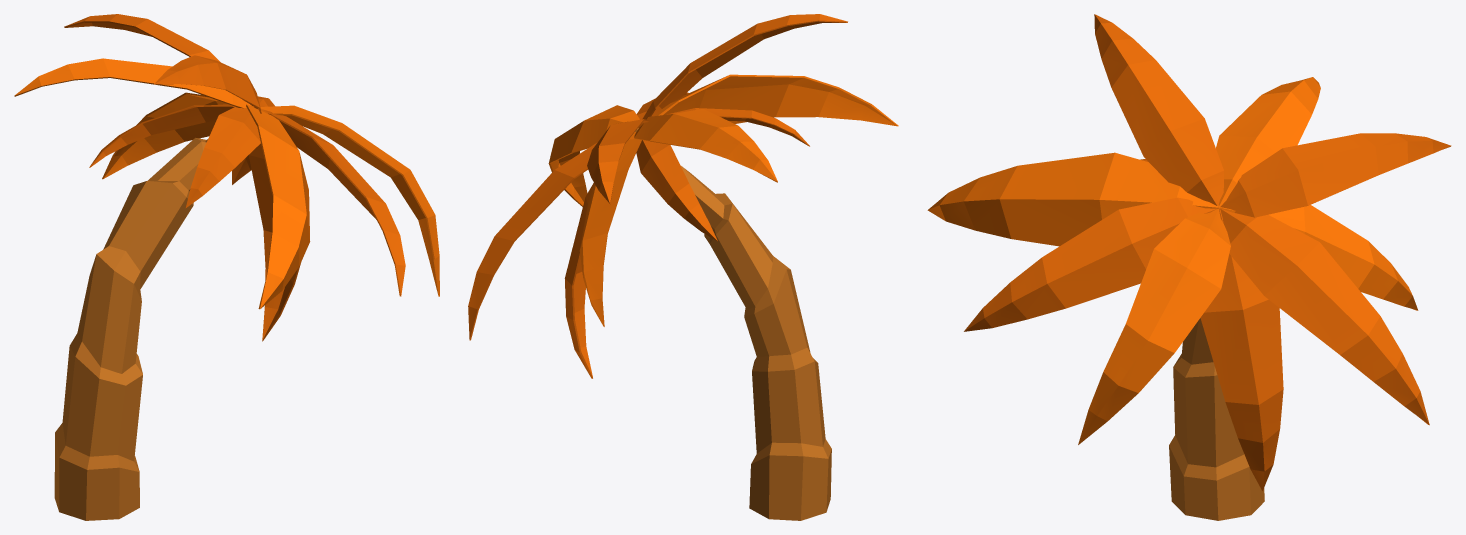
File: Tree_07_Fall.fbx
The picture shows the model from 3 angles, left to right: view 1: azimuth 30°, elevation 25°; view 2: azimuth 150°, elevation 25°; view 3: azimuth 270°, elevation 25°; orthographic projection. The views are drawn at different scales.
Visible parts, largest first — view 1: Tree_07_p2_Fall, Tree_07_p1_Fall; view 2: Tree_07_p2_Fall, Tree_07_p1_Fall; view 3: Tree_07_p2_Fall, Tree_07_p1_Fall.
Boxes of the visible parts, x1=… form: Tree_07_p2_Fall: x1=14, y1=14, x2=439, y2=341; Tree_07_p1_Fall: x1=54, y1=138, x2=207, y2=520; Tree_07_p2_Fall: x1=468, y1=14, x2=898, y2=378; Tree_07_p1_Fall: x1=635, y1=128, x2=831, y2=520; Tree_07_p2_Fall: x1=927, y1=14, x2=1451, y2=490; Tree_07_p1_Fall: x1=1169, y1=318, x2=1264, y2=520.
Size of the model in its own units: 270 by 364 by 353.
